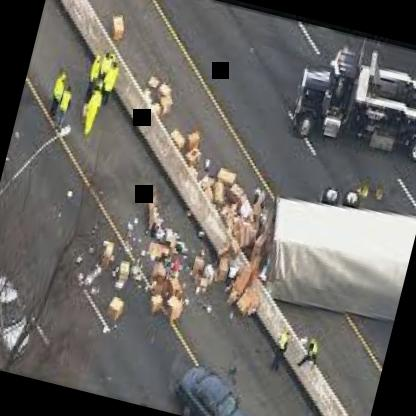accident: (171, 154, 416, 345)
